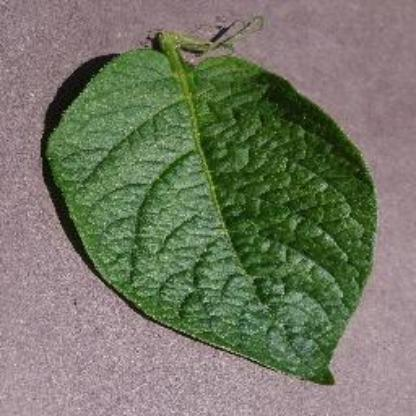Healthy-plant: (44, 15, 380, 391)
